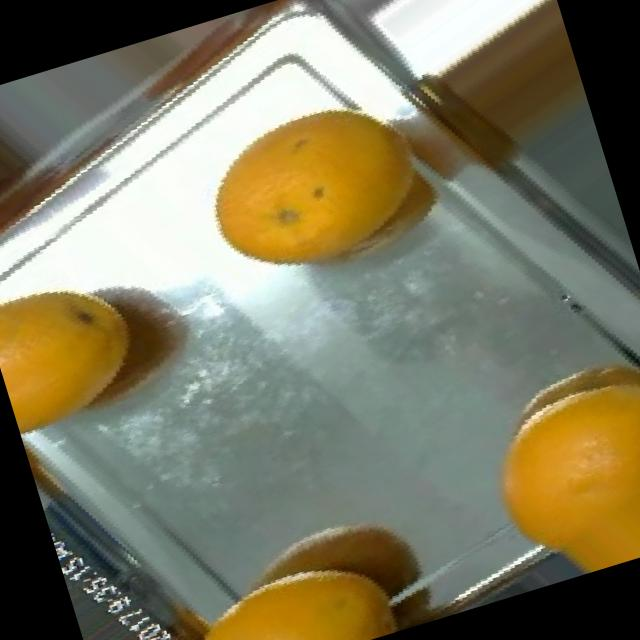Fruit: (0, 210, 231, 463)
